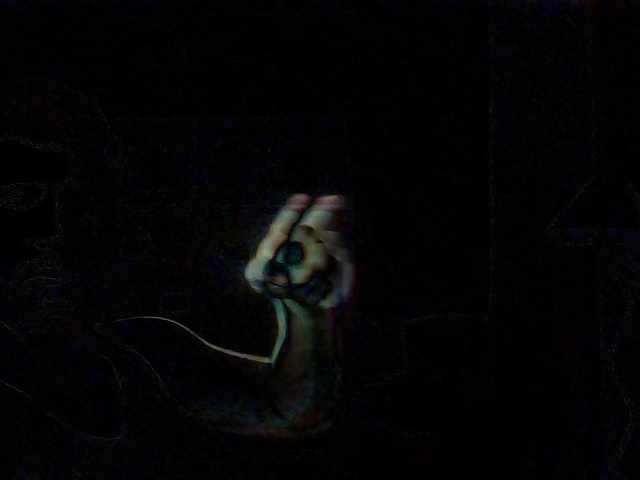hand_po: (236, 172, 364, 318)
